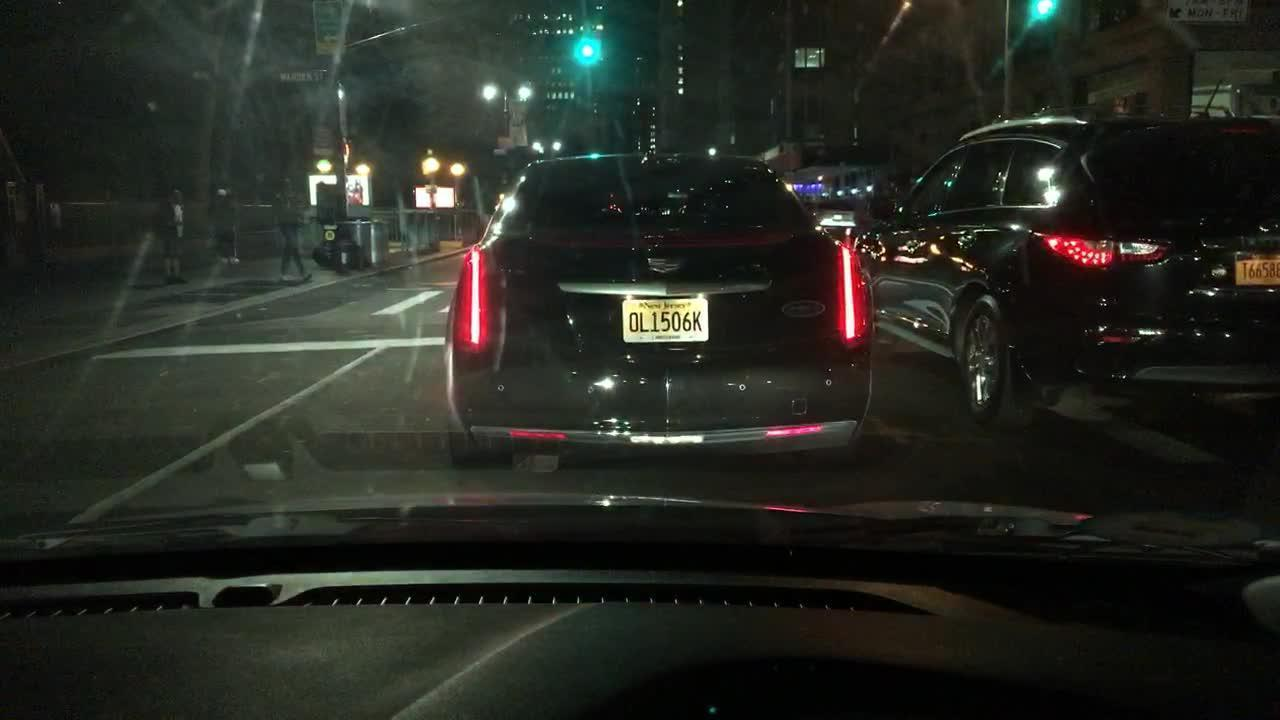cadillac: (630, 241, 705, 282)
